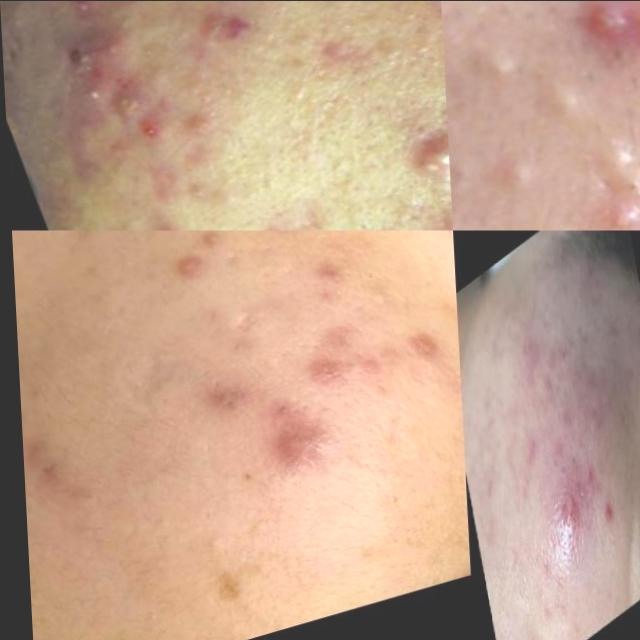8: (249, 396, 339, 483), (181, 0, 263, 59), (175, 98, 229, 148), (138, 210, 191, 230), (594, 486, 617, 528)
9: (591, 196, 640, 230)
blackheads: (194, 280, 271, 354), (560, 0, 640, 70), (53, 34, 113, 116), (397, 126, 449, 194), (104, 80, 150, 126), (565, 458, 585, 526), (429, 188, 450, 230)
pustules: (528, 460, 581, 594), (59, 0, 122, 23)
